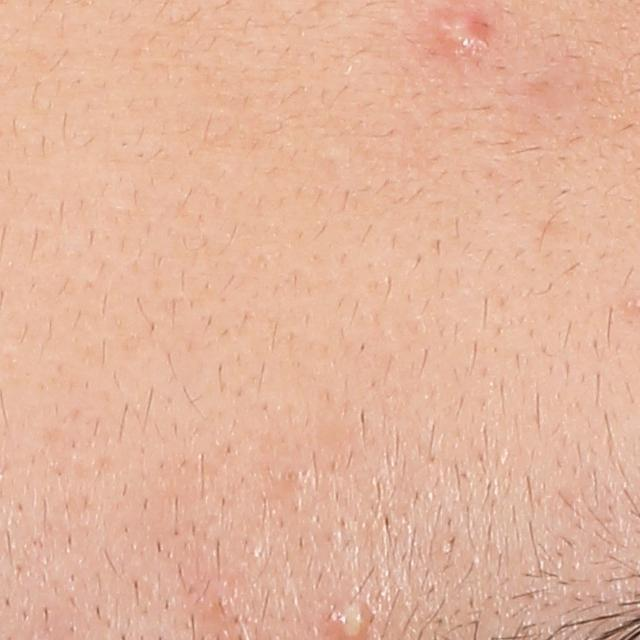papule: (436, 8, 489, 55)
